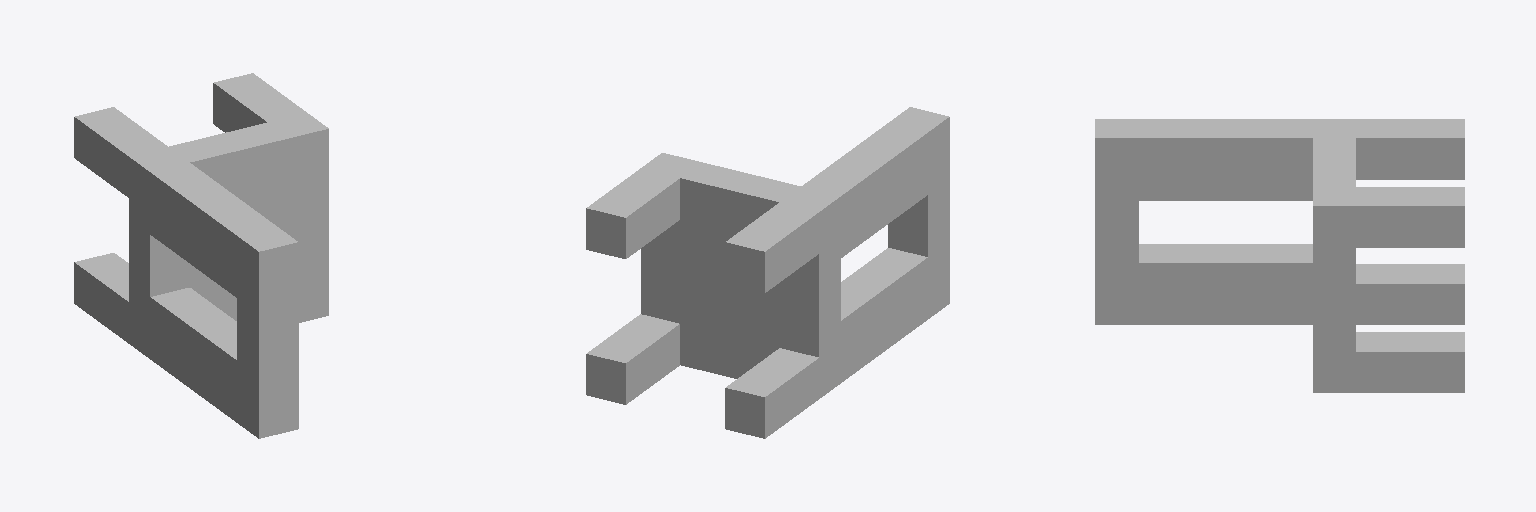
The model's file is chair.obj.
3 renders of one model, left to right at view 1: azimuth 30°, elevation 25°; view 2: azimuth 150°, elevation 25°; view 3: azimuth 270°, elevation 25°, orthographic.
Visible parts, largest first — view 1: Cube; view 2: Cube; view 3: Cube.
Part boxes in pixels (x1,y1,x2,y2): Cube: (74, 73, 328, 438); Cube: (586, 107, 949, 438); Cube: (1095, 119, 1464, 392).
Size of the model in its own units: 2 by 2 by 3.58.